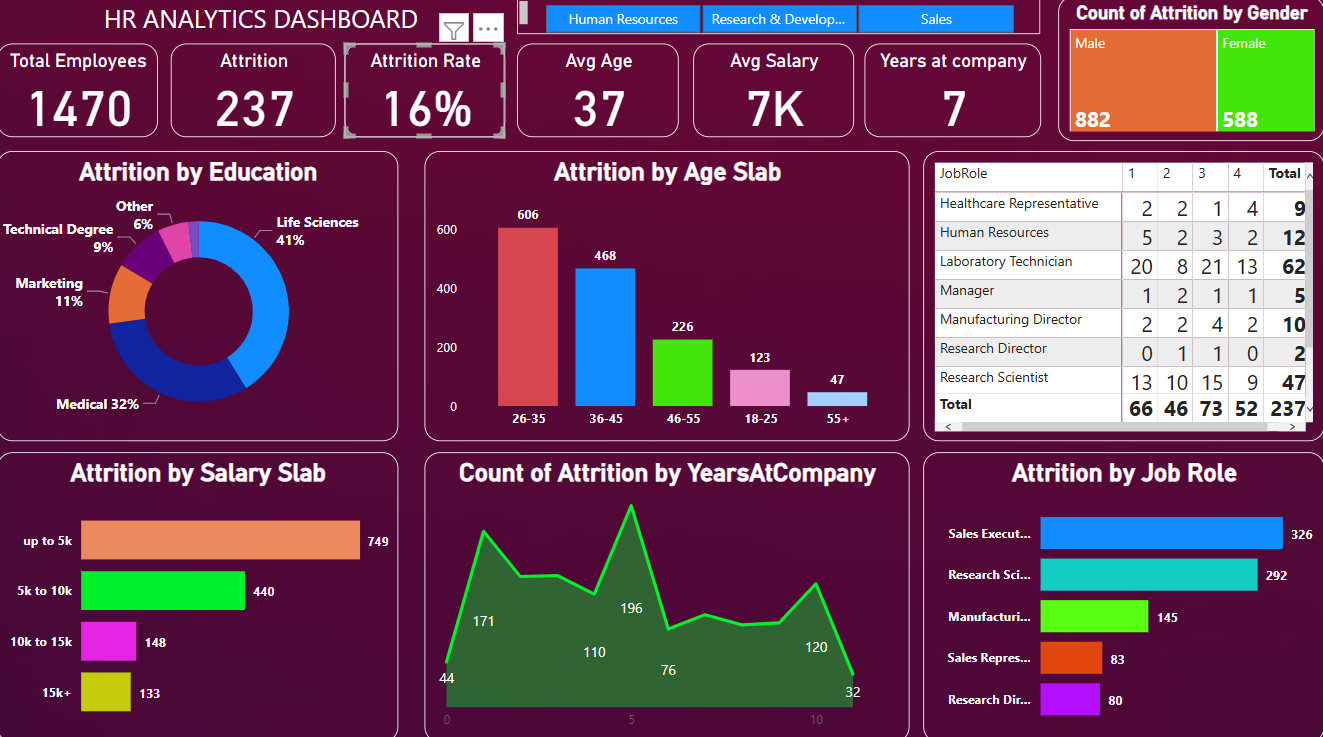

This screenshot's page, from the dashboard's own definition file:
{"tool":"powerbi","page":{"name":"Page 1","canvas":[1280,720],"ordinal":0},"visuals":[{"type":"donutChart","title":" Attrition by Education","fields":{"Category":["WA_Fn-UseC_-HR-Employee-Attrition.EducationField"],"Y":["CountNonNull(WA_Fn-UseC_-HR-Employee-Attrition.Attrition)"]},"box":[0,149.5,386.9,279.9],"z":0},{"type":"clusteredBarChart","title":" Attrition by Salary Slab","fields":{"Y":["CountNonNull(WA_Fn-UseC_-HR-Employee-Attrition.Attrition)"],"Category":["WA_Fn-UseC_-HR-Employee-Attrition.salary slab"]},"box":[0,440.4,386.9,279.9],"z":1000},{"type":"columnChart","title":" Attrition by Age Slab","fields":{"Y":["CountNonNull(WA_Fn-UseC_-HR-Employee-Attrition.Attrition)"],"Category":["WA_Fn-UseC_-HR-Employee-Attrition.Age Slab"]},"box":[412.9,149.5,467.8,279.9],"z":2000},{"type":"pivotTable","fields":{"Rows":["WA_Fn-UseC_-HR-Employee-Attrition.JobRole"],"Columns":["WA_Fn-UseC_-HR-Employee-Attrition.JobSatisfaction"],"Values":["Sum(WA_Fn-UseC_-HR-Employee-Attrition.Attiration count)"]},"box":[893.1,149.5,386.9,279.9],"z":3000},{"type":"clusteredBarChart","title":" Attrition by Job Role","fields":{"Y":["CountNonNull(WA_Fn-UseC_-HR-Employee-Attrition.Attrition)"],"Category":["WA_Fn-UseC_-HR-Employee-Attrition.JobRole"]},"box":[893.1,440.4,386.9,279.9],"z":4000},{"type":"treemap","fields":{"Values":["CountNonNull(WA_Fn-UseC_-HR-Employee-Attrition.Attrition)"],"Group":["WA_Fn-UseC_-HR-Employee-Attrition.Gender"]},"box":[1023.5,0,256.5,139.9],"z":5000},{"type":"slicer","fields":{"Values":["WA_Fn-UseC_-HR-Employee-Attrition.Department"]},"box":[502.1,0,504.9,37],"z":6000},{"type":"card","title":"Total Employees","fields":{"Values":["Sum(WA_Fn-UseC_-HR-Employee-Attrition.EmployeeCount)"]},"box":[0,45.2,155.2,90.5],"z":7000},{"type":"card","title":"Attrition","fields":{"Values":["Sum(WA_Fn-UseC_-HR-Employee-Attrition.Attiration count)"]},"box":[167.4,45.3,159.1,90.5],"z":8000},{"type":"card","title":"Attrition Rate","fields":{"Values":["Avg(WA_Fn-UseC_-HR-Employee-Attrition.Rate)"]},"box":[334.7,45.3,155,90.5],"z":9000},{"type":"card","title":"Avg Age","fields":{"Values":["Avg(WA_Fn-UseC_-HR-Employee-Attrition.Age)"]},"box":[502.1,45.3,156.4,90.5],"z":10000},{"type":"card","title":"Avg Salary","fields":{"Values":["Avg(WA_Fn-UseC_-HR-Employee-Attrition.MonthlyIncome)"]},"box":[672.2,45.3,155,90.5],"z":11000},{"type":"card","title":"Years at company","fields":{"Values":["Avg(WA_Fn-UseC_-HR-Employee-Attrition.YearsAtCompany)"]},"box":[836.9,45.3,170.1,90.5],"z":12000},{"type":"textbox","box":[0,0,517.1,36.7],"z":13000},{"type":"stackedAreaChart","fields":{"Category":["WA_Fn-UseC_-HR-Employee-Attrition.YearsAtCompany"],"Y":["CountNonNull(WA_Fn-UseC_-HR-Employee-Attrition.Attrition)"]},"box":[412.9,440.4,467.8,279.9],"z":14000}]}

Visuals, with their boxes in screenshot pixels (x1, y1, x2, y2), scaled from the page's 1280x720 canvas onto the 1323x737 screenshot:
" Attrition by Education" donutChart: bbox=[0, 153, 400, 440]
" Attrition by Salary Slab" clusteredBarChart: bbox=[0, 451, 400, 736]
" Attrition by Age Slab" columnChart: bbox=[427, 153, 910, 440]
pivotTable - WA_Fn-UseC_-HR-Employee-Attrition.JobRole x WA_Fn-UseC_-HR-Employee-Attrition.JobSatisfaction: bbox=[923, 153, 1322, 440]
" Attrition by Job Role" clusteredBarChart: bbox=[923, 451, 1322, 736]
treemap - CountNonNull(WA_Fn-UseC_-HR-Employee-Attrition.Attrition) x WA_Fn-UseC_-HR-Employee-Attrition.Gender: bbox=[1058, 0, 1322, 143]
slicer - WA_Fn-UseC_-HR-Employee-Attrition.Department: bbox=[519, 0, 1041, 38]
"Total Employees" card: bbox=[0, 46, 160, 139]
"Attrition" card: bbox=[173, 46, 337, 139]
"Attrition Rate" card: bbox=[346, 46, 506, 139]
"Avg Age" card: bbox=[519, 46, 681, 139]
"Avg Salary" card: bbox=[695, 46, 855, 139]
"Years at company" card: bbox=[865, 46, 1041, 139]
textbox: bbox=[0, 0, 534, 38]
stackedAreaChart - WA_Fn-UseC_-HR-Employee-Attrition.YearsAtCompany x CountNonNull(WA_Fn-UseC_-HR-Employee-Attrition.Attrition): bbox=[427, 451, 910, 736]
